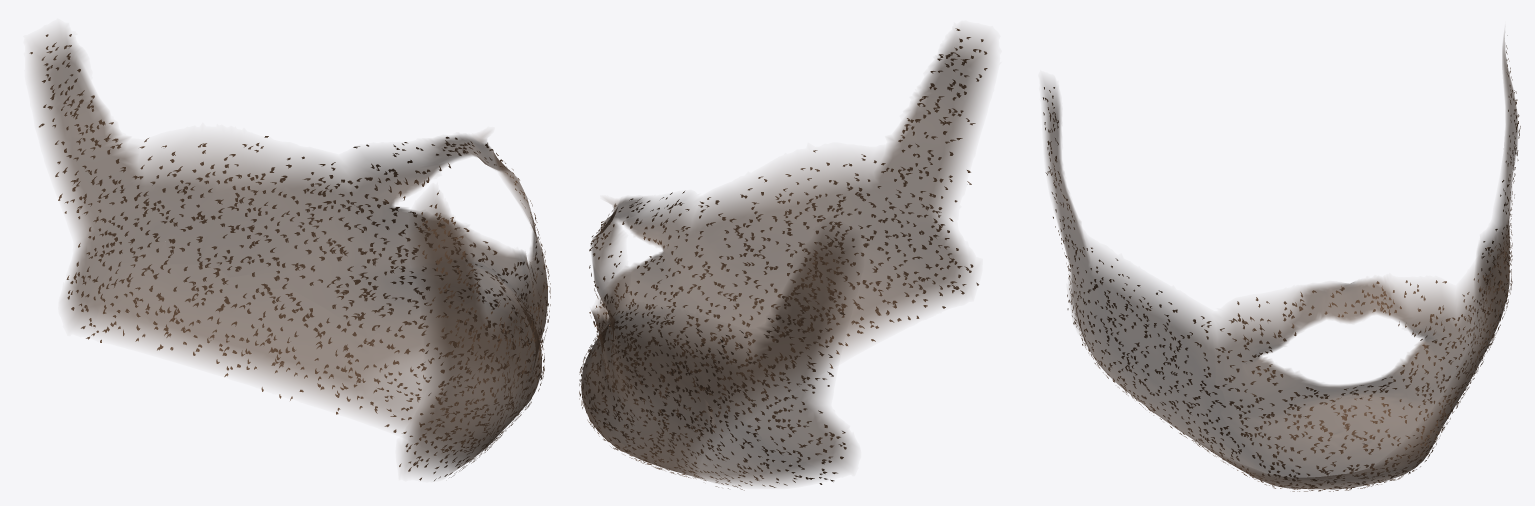
File: beard-m1-stubble.glb
3 renders of one model, left to right at view 1: azimuth 30°, elevation 25°; view 2: azimuth 150°, elevation 25°; view 3: azimuth 270°, elevation 25°, orthographic. The views are drawn at different scales.
Parts seen in each view (by area): view 1: Beard_m1_stubble_root, Beard_m1_stubble_cards; view 2: Beard_m1_stubble_root, Beard_m1_stubble_cards; view 3: Beard_m1_stubble_root, Beard_m1_stubble_cards.
Boxes of the visible parts, box(x1,y1,x2,y2) form: Beard_m1_stubble_root: box(31, 28, 547, 476); Beard_m1_stubble_cards: box(29, 34, 550, 480); Beard_m1_stubble_root: box(581, 29, 992, 485); Beard_m1_stubble_cards: box(579, 28, 987, 490); Beard_m1_stubble_root: box(1042, 33, 1517, 489); Beard_m1_stubble_cards: box(1043, 35, 1520, 491).
Bounding box in the file's own units: 0.1311 × 0.1273 × 0.1556.
Materials: 2 (1 with a texture image).
